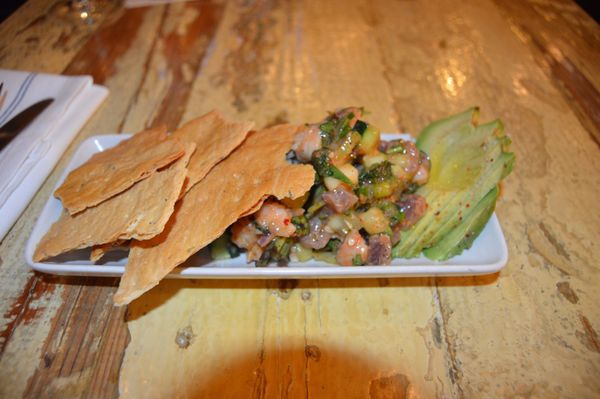soup: (49, 106, 521, 311)
